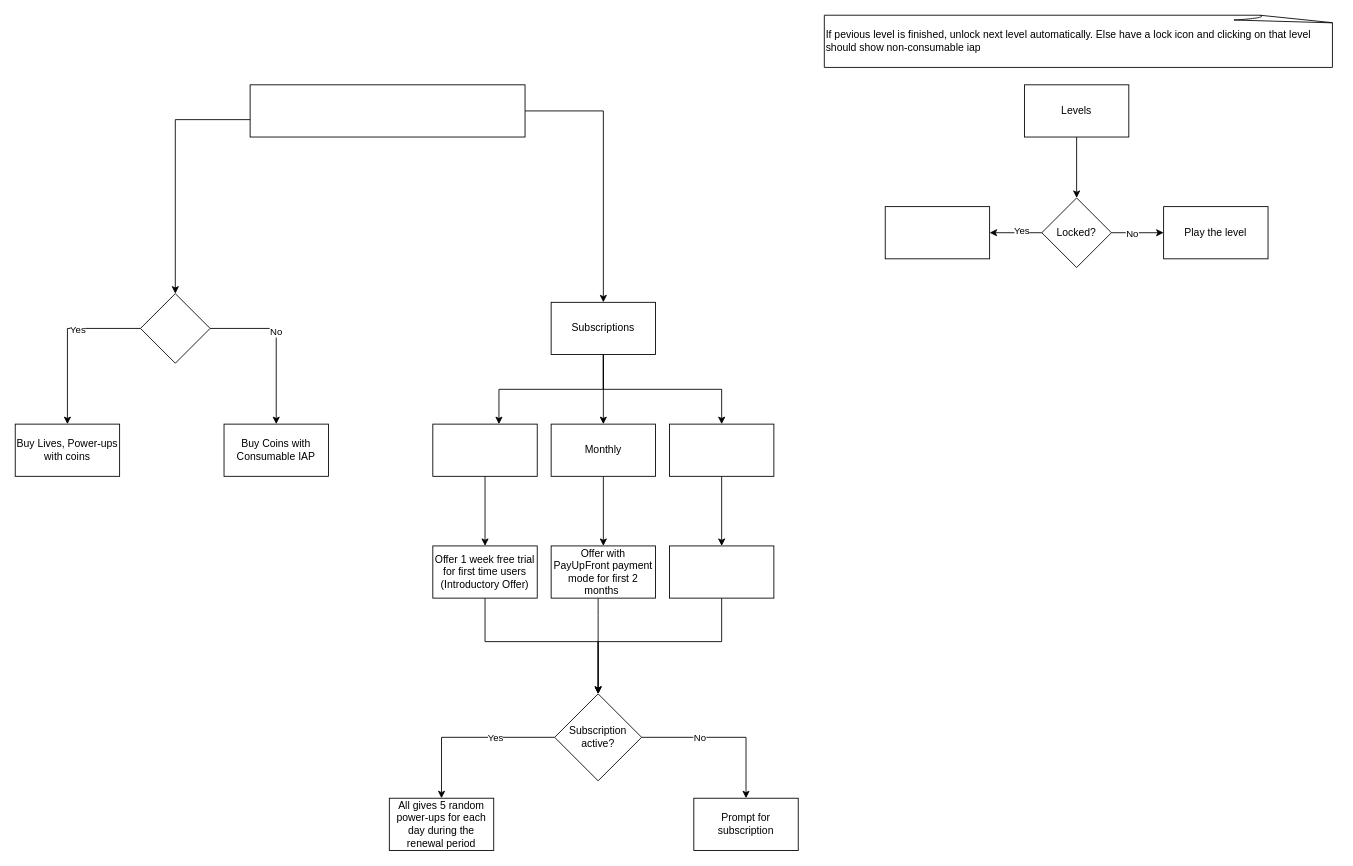
Image size: 1353x866. Some labels were removed from this diagram. Here are the shapes that lost their labels. From the top down, the box of each, then its label:
(249, 84, 525, 137): Shop
(884, 206, 990, 259): Buy level with Non-Consumable purchase
(140, 293, 210, 363): Have Coins?
(432, 423, 537, 476): Weekly
(669, 423, 774, 476): Yearly
(669, 545, 774, 598): Offer 4 months at discount price
